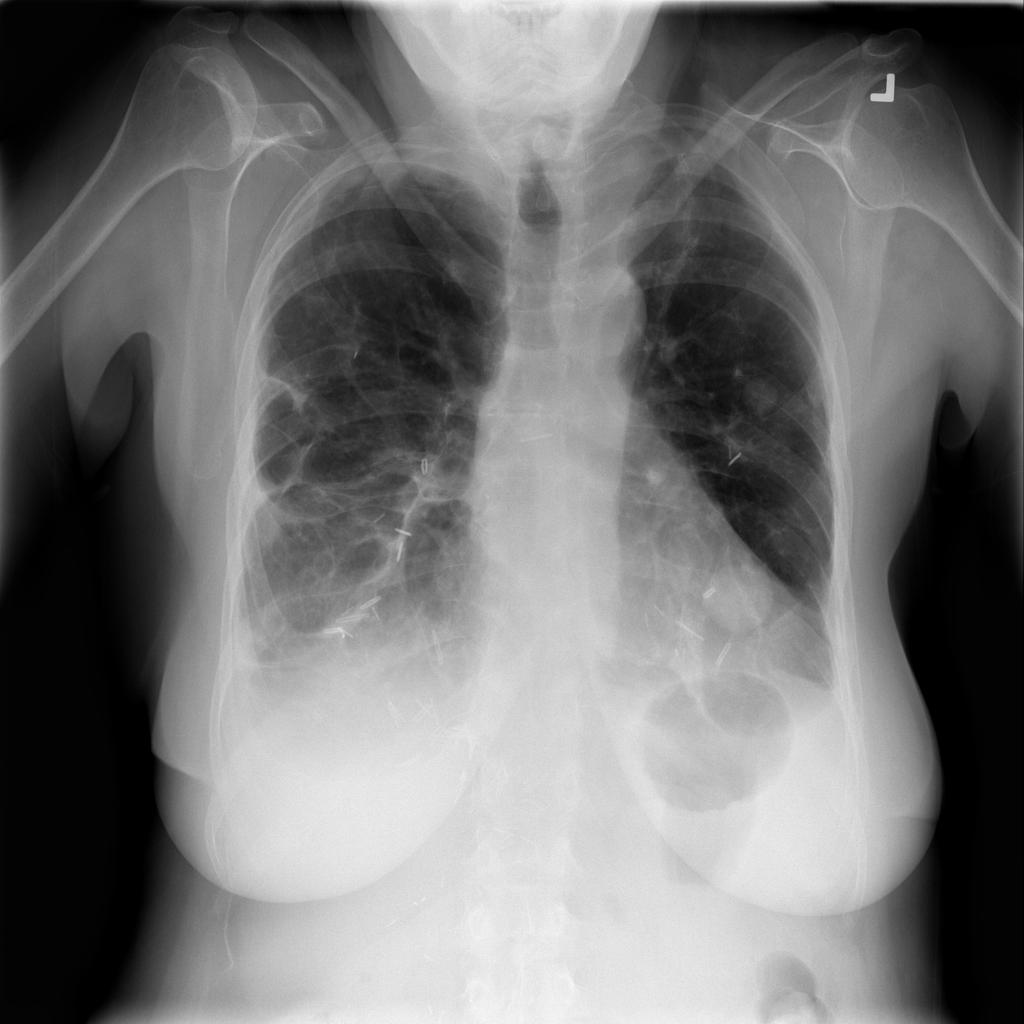nodule: (694, 540, 793, 648), (729, 357, 793, 432)
